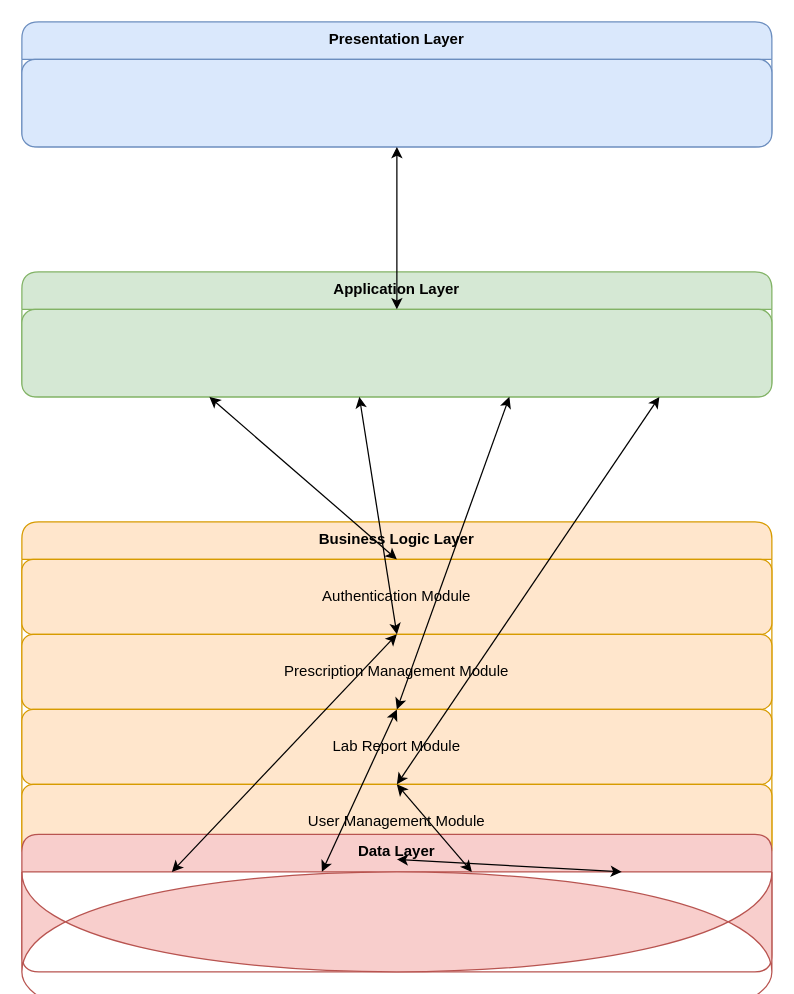
This 794x994 diagram has some shape labels left out. The centre of each missing label's shape, as x and y in pixels:
".NET Web API" goes at pixel 396 352.
"MySQL Database" goes at pixel 396 921.
"React Frontend" goes at pixel 396 102.
